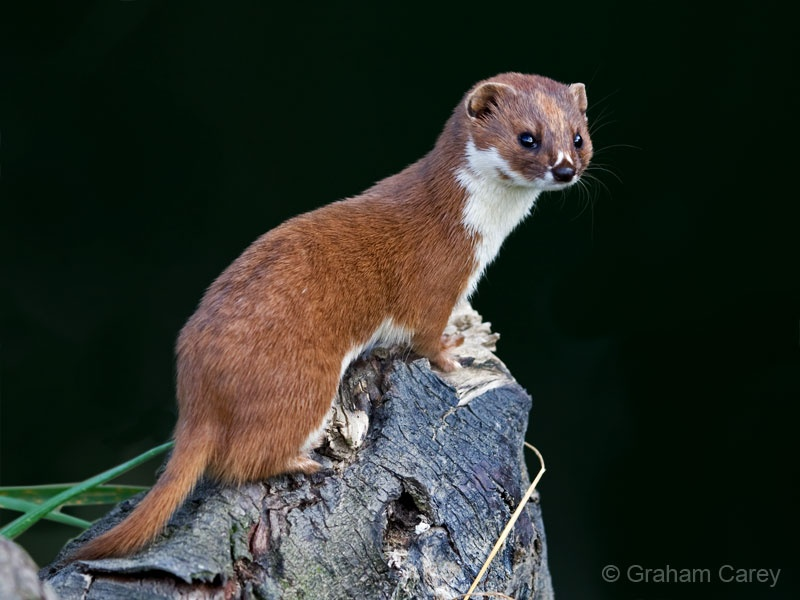minkish: (69, 61, 600, 562)
